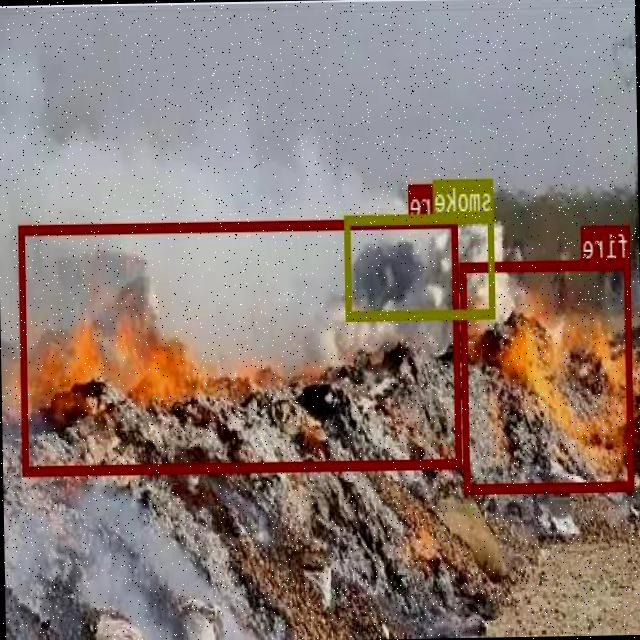fire: (19, 215, 462, 472), (462, 258, 635, 492)
smoke: (345, 212, 496, 318)
